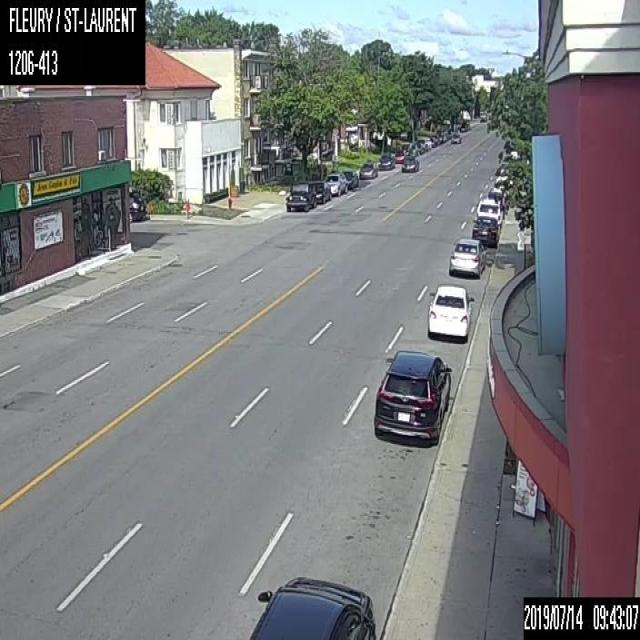vehicle: (249, 574, 376, 638), (372, 348, 451, 447), (426, 283, 474, 340), (448, 237, 488, 279), (284, 181, 316, 212), (472, 215, 498, 248), (474, 198, 502, 226), (128, 185, 146, 221), (323, 172, 347, 195), (309, 180, 331, 204), (341, 170, 358, 189), (359, 161, 377, 178), (377, 153, 395, 170), (401, 155, 418, 172), (394, 148, 408, 163), (449, 133, 461, 143), (479, 111, 486, 121)
